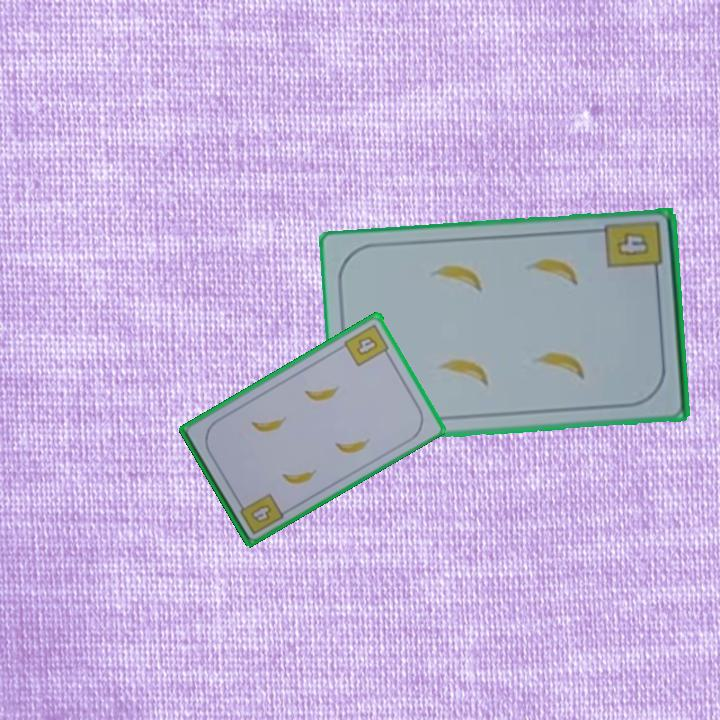4b: (602, 217, 665, 282), (341, 320, 393, 369), (246, 500, 275, 526)
